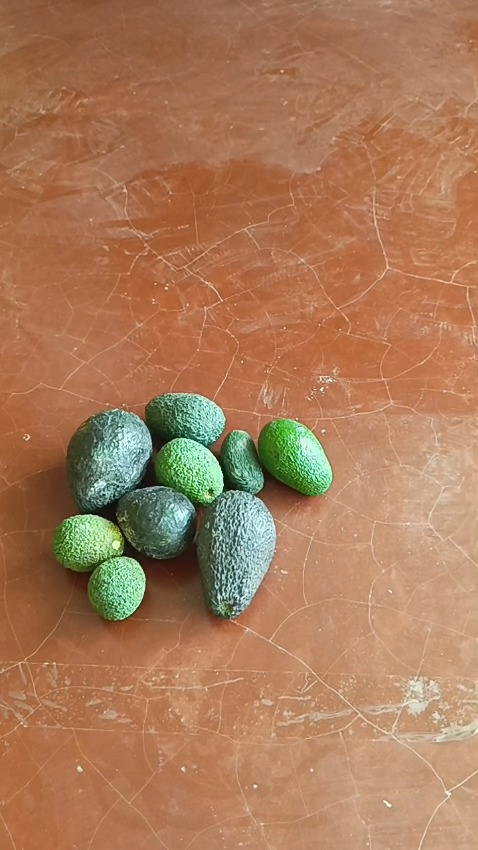Primera: (195, 490, 274, 617), (65, 409, 154, 512), (116, 485, 198, 559)
Segunda: (257, 419, 332, 496), (153, 438, 223, 505), (143, 392, 226, 446)
Tercera: (51, 514, 123, 572), (85, 554, 147, 621), (219, 429, 265, 496)
